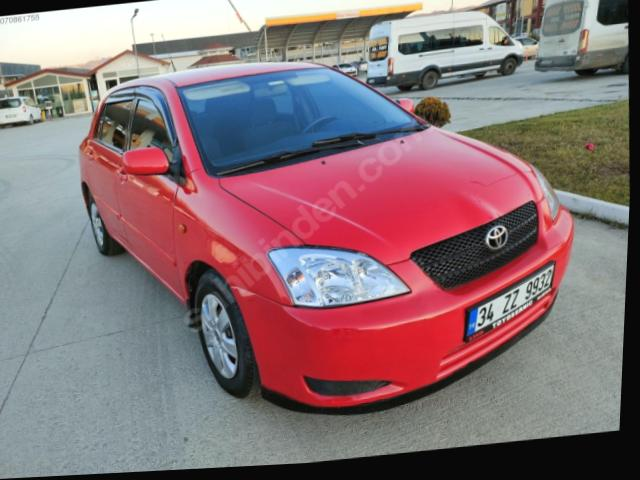plaka: (467, 262, 554, 338)
